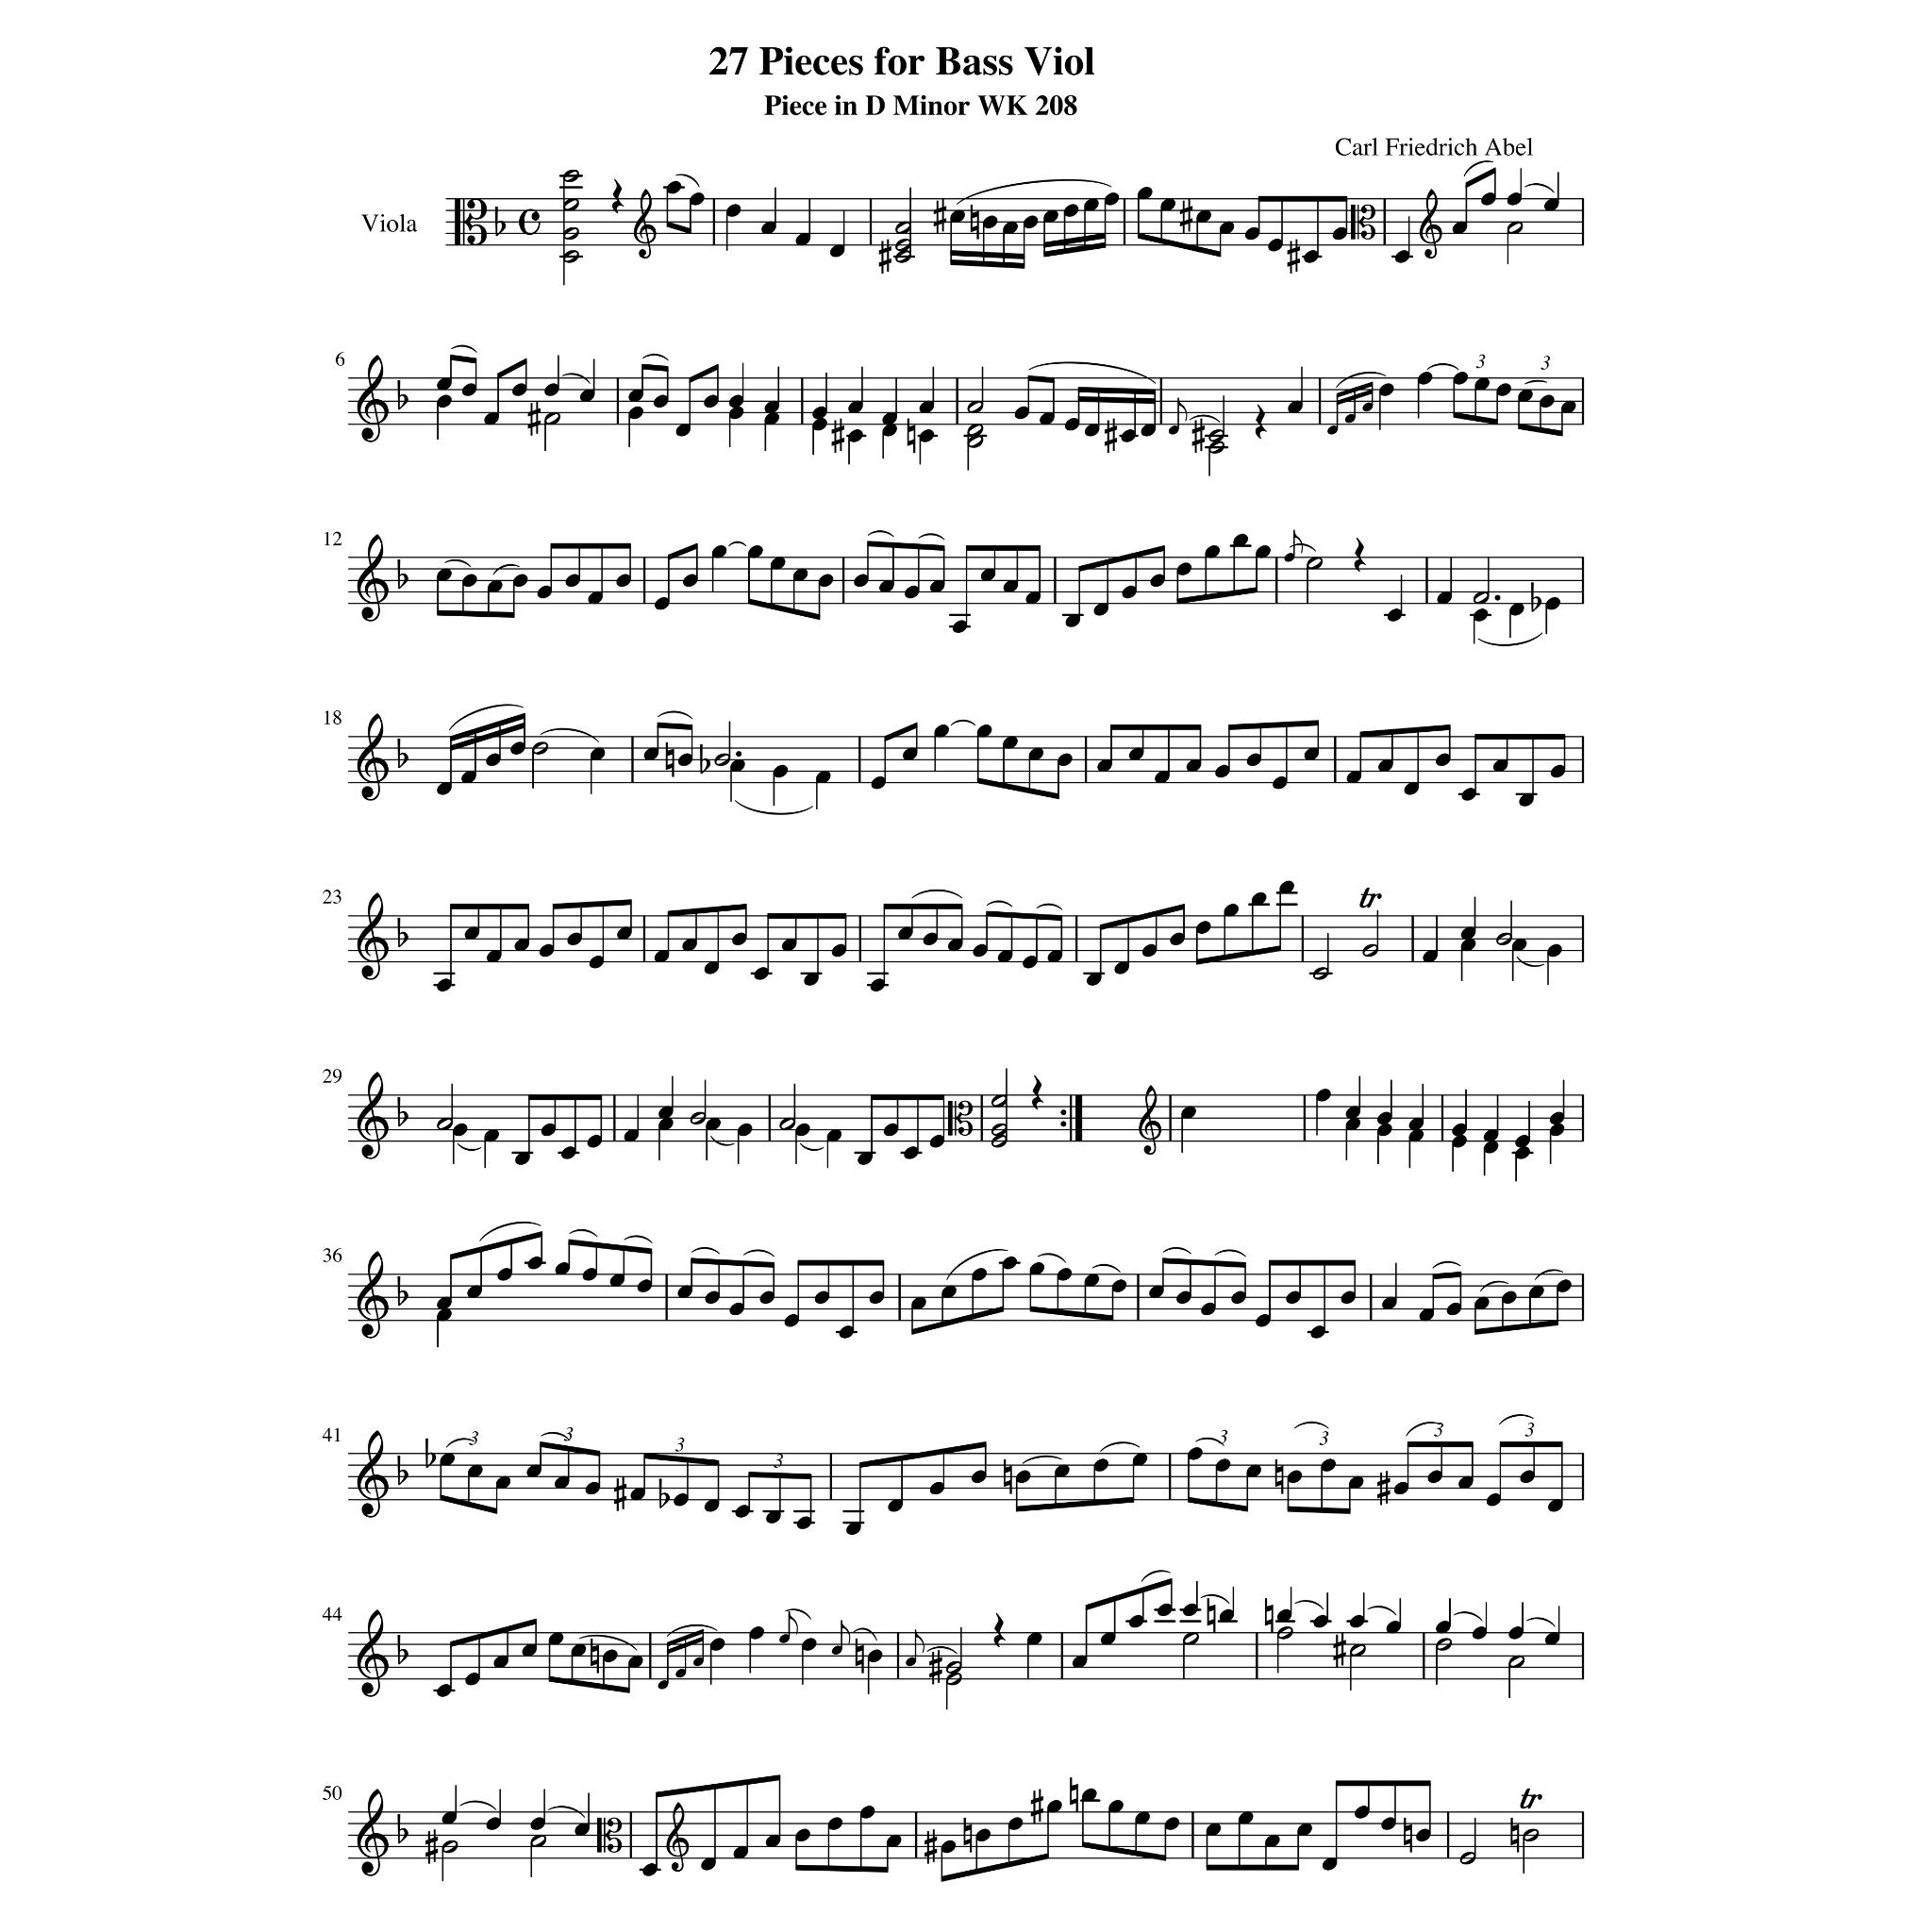flag8thUp: (1177, 398, 1187, 423), (915, 1629, 925, 1654), (1293, 531, 1302, 556), (842, 1621, 851, 1645), (789, 1612, 798, 1637)
gClef: (357, 354, 389, 444), (357, 892, 389, 982), (357, 534, 389, 623), (357, 713, 389, 801), (357, 1072, 389, 1161), (357, 1251, 389, 1339), (357, 1430, 389, 1518), (357, 1610, 389, 1698), (357, 1789, 389, 1877)
noteheadBlack: (1214, 764, 1231, 778), (1127, 748, 1145, 763), (1113, 961, 1131, 975), (616, 927, 633, 941), (587, 955, 605, 970), (731, 932, 748, 947), (559, 1146, 577, 1161), (1028, 1261, 1046, 1276), (1214, 1458, 1231, 1472), (672, 1493, 690, 1507), (886, 1499, 904, 1513), (1099, 1631, 1116, 1645), (573, 1822, 591, 1836), (1219, 221, 1235, 235), (1244, 226, 1260, 241), (1304, 249, 1320, 264), (1136, 186, 1152, 200), (1083, 198, 1099, 212), (1161, 198, 1177, 212), (1545, 198, 1560, 212), (1394, 249, 1410, 264), (1332, 226, 1348, 241), (1451, 221, 1467, 235), (830, 244, 846, 258), (761, 221, 777, 235), (665, 180, 681, 195), (982, 216, 998, 230), (1023, 216, 1039, 230), (1014, 407, 1030, 421), (1139, 423, 1155, 437), (1083, 423, 1099, 437), (1063, 418, 1079, 432), (1539, 395, 1555, 409), (1474, 377, 1490, 391), (1453, 372, 1468, 386), (1417, 372, 1433, 386), (628, 407, 644, 421), (704, 395, 720, 409), (676, 423, 692, 437), (653, 395, 669, 409), (437, 395, 453, 409), (437, 377, 453, 391), (881, 423, 897, 437), (812, 407, 828, 421), (727, 407, 743, 421), (727, 395, 743, 409), (812, 418, 828, 432), (1205, 545, 1221, 559), (1177, 563, 1192, 577), (980, 568, 996, 582), (1254, 545, 1270, 559), (1024, 591, 1040, 605), (1122, 586, 1138, 600), (1545, 596, 1560, 610), (1437, 591, 1453, 605), (653, 596, 669, 610), (587, 591, 603, 605), (711, 545, 727, 559), (437, 568, 453, 582), (536, 586, 552, 600), (904, 586, 920, 600), (770, 556, 786, 570), (747, 545, 763, 559), (793, 568, 809, 582), (1185, 759, 1201, 773), (1304, 748, 1320, 763), (1272, 777, 1288, 791), (1097, 759, 1113, 773), (1028, 748, 1044, 763), (1550, 764, 1566, 778), (1378, 759, 1394, 773), (1493, 759, 1509, 773), (1461, 787, 1477, 801), (642, 748, 658, 763), (589, 748, 605, 763), (729, 759, 745, 773), (510, 741, 525, 755), (870, 777, 886, 791), (902, 748, 918, 763), (1003, 736, 1019, 750), (771, 764, 787, 778), (1169, 932, 1185, 947), (1251, 892, 1267, 906), (1194, 920, 1210, 934), (1021, 955, 1037, 970), (1460, 927, 1476, 941), (566, 932, 582, 947), (464, 927, 479, 941), (704, 961, 720, 975), (922, 932, 938, 947), (897, 927, 913, 941), (754, 966, 770, 980), (1316, 1088, 1332, 1102), (1376, 1123, 1392, 1138), (1345, 1118, 1361, 1132), (1345, 1106, 1361, 1120), (1180, 1106, 1196, 1120), (1548, 1123, 1564, 1138), (1514, 1146, 1530, 1161), (1514, 1134, 1530, 1148), (1451, 1134, 1467, 1148), (1451, 1123, 1467, 1138), (1408, 1129, 1424, 1143), (1408, 1118, 1424, 1132), (1483, 1129, 1499, 1143), (586, 1134, 602, 1148), (623, 1129, 639, 1143), (658, 1106, 674, 1120), (658, 1118, 674, 1132), (451, 1123, 467, 1138), (540, 1123, 556, 1138), (515, 1152, 531, 1166), (483, 1129, 499, 1143), (904, 1146, 920, 1161), (883, 1123, 899, 1138), (826, 1129, 842, 1143), (736, 1123, 752, 1138), (706, 1118, 722, 1132), (794, 1123, 810, 1138), (929, 1134, 945, 1148), (1201, 1302, 1217, 1316), (1309, 1325, 1325, 1339), (1056, 1267, 1072, 1281), (1001, 1256, 1017, 1270), (1382, 1297, 1398, 1311), (1474, 1297, 1490, 1311), (1445, 1302, 1461, 1316), (582, 1267, 598, 1281), (554, 1261, 570, 1276), (437, 1297, 453, 1311), (527, 1256, 543, 1270), (497, 1267, 513, 1281), (911, 1297, 927, 1311), (839, 1325, 855, 1339), (971, 1267, 987, 1281), (729, 1302, 745, 1316), (1246, 1465, 1261, 1479), (1348, 1476, 1364, 1490), (1320, 1458, 1336, 1472), (1132, 1453, 1148, 1467), (1187, 1447, 1203, 1461), (1093, 1458, 1109, 1472), (1054, 1465, 1070, 1479), (1458, 1476, 1474, 1490), (1486, 1493, 1502, 1507), (1548, 1499, 1564, 1513), (630, 1488, 646, 1502), (554, 1476, 570, 1490), (704, 1499, 720, 1513), (439, 1453, 455, 1467), (525, 1465, 541, 1479), (467, 1465, 483, 1479), (796, 1516, 812, 1530), (734, 1504, 750, 1518), (1277, 1608, 1293, 1622), (1219, 1608, 1235, 1622), (1026, 1631, 1042, 1645), (1182, 1603, 1198, 1617), (1157, 1603, 1173, 1617), (1545, 1631, 1560, 1645), (1435, 1621, 1451, 1635), (1385, 1621, 1401, 1635), (1472, 1626, 1488, 1640), (602, 1649, 617, 1663), (570, 1644, 586, 1658), (465, 1672, 481, 1686), (548, 1631, 564, 1645), (522, 1644, 538, 1658), (867, 1649, 883, 1663), (748, 1626, 764, 1640), (709, 1637, 725, 1651), (801, 1637, 817, 1651), (1205, 1822, 1221, 1836), (1164, 1817, 1180, 1831), (1265, 1835, 1281, 1849), (1047, 1799, 1063, 1813), (1007, 1817, 1023, 1831), (1108, 1799, 1123, 1813), (1081, 1789, 1097, 1803), (1322, 1858, 1338, 1872), (1297, 1822, 1313, 1836), (1415, 1828, 1431, 1842), (1380, 1817, 1396, 1831), (642, 1863, 658, 1877), (701, 1858, 717, 1872), (529, 1817, 545, 1831), (485, 1817, 501, 1831), (939, 1840, 955, 1854), (885, 1835, 901, 1849), (975, 1828, 991, 1842), (794, 1828, 810, 1842), (826, 1817, 842, 1831), (764, 1835, 780, 1849), (732, 1845, 748, 1859), (1042, 211, 1060, 223), (460, 384, 478, 396), (971, 945, 989, 957), (1085, 973, 1102, 985), (830, 945, 847, 957), (1284, 1292, 1302, 1304), (1426, 1470, 1444, 1483), (1014, 1470, 1031, 1483), (1070, 1656, 1088, 1668), (1127, 1615, 1145, 1628), (858, 1806, 876, 1819), (1003, 221, 1017, 235), (858, 1152, 872, 1166), (495, 1476, 510, 1490), (1509, 1626, 1523, 1640), (1196, 211, 1212, 223), (1267, 239, 1283, 251), (1104, 193, 1120, 205), (1506, 193, 1522, 205), (1481, 193, 1497, 205), (725, 205, 741, 218), (688, 193, 704, 205), (794, 234, 810, 246), (950, 211, 966, 223), (1063, 205, 1079, 218), (1288, 402, 1304, 414), (1039, 412, 1054, 425), (1120, 430, 1136, 442), (1560, 402, 1576, 414), (1518, 389, 1534, 402), (1378, 384, 1394, 396), (1495, 384, 1511, 396), (628, 389, 644, 402), (579, 389, 594, 402), (543, 384, 559, 396), (511, 384, 527, 396), (483, 412, 499, 425), (847, 402, 863, 414), (847, 430, 863, 442), (881, 412, 897, 425), (918, 430, 934, 442), (918, 402, 934, 414), (764, 402, 780, 414), (764, 412, 780, 425), (1150, 575, 1166, 587), (1233, 534, 1249, 547), (1065, 616, 1081, 628), (1003, 580, 1019, 593), (1093, 603, 1109, 616), (1509, 603, 1525, 616), (1387, 609, 1403, 621), (1472, 609, 1488, 621), (616, 575, 632, 587), (564, 575, 580, 587), (681, 575, 697, 587), (513, 575, 529, 587), (487, 580, 502, 593), (462, 575, 478, 587), (853, 575, 869, 587), (817, 575, 833, 587), (929, 580, 945, 593), (952, 621, 968, 633), (878, 580, 893, 593), (1246, 754, 1261, 766), (1346, 771, 1362, 784), (1154, 771, 1169, 784), (1518, 794, 1534, 807), (1403, 782, 1419, 794), (1435, 754, 1451, 766), (678, 754, 694, 766), (437, 782, 453, 794), (485, 754, 501, 766), (460, 771, 476, 784), (934, 725, 950, 738), (977, 725, 993, 738), (816, 771, 832, 784), (1141, 945, 1157, 957), (1279, 881, 1295, 893), (1223, 904, 1238, 916), (996, 950, 1012, 962), (1047, 950, 1063, 962), (1546, 945, 1562, 957), (1511, 939, 1527, 952), (1460, 939, 1476, 952), (1422, 950, 1438, 962), (653, 950, 669, 962), (681, 939, 697, 952), (437, 978, 453, 991), (538, 945, 554, 957), (513, 939, 529, 952), (485, 950, 501, 962), (869, 978, 885, 991), (803, 973, 819, 985), (947, 939, 962, 952), (780, 939, 796, 952), (1376, 1113, 1392, 1125), (1548, 1113, 1564, 1125), (1483, 1141, 1499, 1154), (1231, 1292, 1247, 1304), (1177, 1292, 1192, 1304), (1339, 1292, 1355, 1304), (1254, 1315, 1270, 1327), (1083, 1274, 1099, 1286), (1148, 1286, 1164, 1299), (1111, 1279, 1127, 1292), (1557, 1279, 1573, 1292), (1529, 1286, 1545, 1299), (1419, 1309, 1435, 1322), (1502, 1292, 1518, 1304), (637, 1279, 653, 1292), (609, 1274, 625, 1286), (704, 1292, 720, 1304), (678, 1286, 694, 1299), (437, 1309, 453, 1322), (467, 1286, 483, 1299), (869, 1292, 885, 1304), (941, 1286, 957, 1299), (784, 1315, 800, 1327), (759, 1292, 775, 1304), (814, 1292, 830, 1304), (1286, 1470, 1302, 1483), (1392, 1483, 1408, 1495), (1520, 1470, 1536, 1483), (584, 1483, 600, 1495), (970, 1470, 985, 1483), (929, 1483, 945, 1495), (766, 1511, 782, 1523), (846, 1523, 862, 1536), (1313, 1615, 1329, 1628), (1350, 1615, 1366, 1628), (628, 1656, 644, 1668), (437, 1684, 453, 1697), (494, 1656, 510, 1668), (1237, 1812, 1253, 1824), (1134, 1812, 1150, 1824), (1353, 1806, 1369, 1819), (441, 1812, 456, 1824), (1058, 754, 1072, 766), (1168, 425, 1180, 435), (674, 1668, 686, 1679), (1327, 425, 1338, 435), (1284, 552, 1295, 563), (658, 1679, 669, 1690), (832, 1645, 842, 1656), (692, 1658, 704, 1667), (904, 1658, 916, 1667), (1362, 403, 1373, 412), (1345, 414, 1355, 423), (778, 1635, 789, 1644)
noteheadHalf: (893, 221, 911, 235), (893, 249, 911, 264), (1306, 557, 1323, 571), (1472, 591, 1490, 605), (531, 741, 548, 755), (1495, 932, 1513, 947), (435, 1118, 453, 1132), (778, 1118, 796, 1132), (1276, 1626, 1293, 1640), (1182, 1631, 1200, 1645), (1435, 1637, 1453, 1651), (1348, 1644, 1366, 1658), (945, 1672, 962, 1686), (529, 1835, 547, 1849), (1507, 221, 1523, 235), (563, 198, 579, 212), (563, 226, 579, 241), (563, 249, 579, 264), (968, 423, 984, 437), (968, 435, 984, 449), (1313, 966, 1329, 980), (991, 1123, 1007, 1138), (991, 1134, 1007, 1148), (1523, 1828, 1539, 1842), (442, 1840, 458, 1854), (893, 239, 911, 251), (1207, 430, 1224, 442), (1207, 442, 1224, 455), (543, 412, 561, 425), (1362, 945, 1380, 957), (945, 1661, 962, 1674), (563, 170, 579, 182), (968, 402, 984, 414), (715, 754, 731, 766), (991, 1095, 1007, 1108), (690, 1113, 706, 1125), (1509, 1656, 1525, 1668), (1460, 1852, 1476, 1865)
restQuarter: (1353, 538, 1368, 573), (1031, 1074, 1044, 1111), (993, 1612, 1005, 1649), (612, 179, 625, 214), (1254, 403, 1267, 439)
